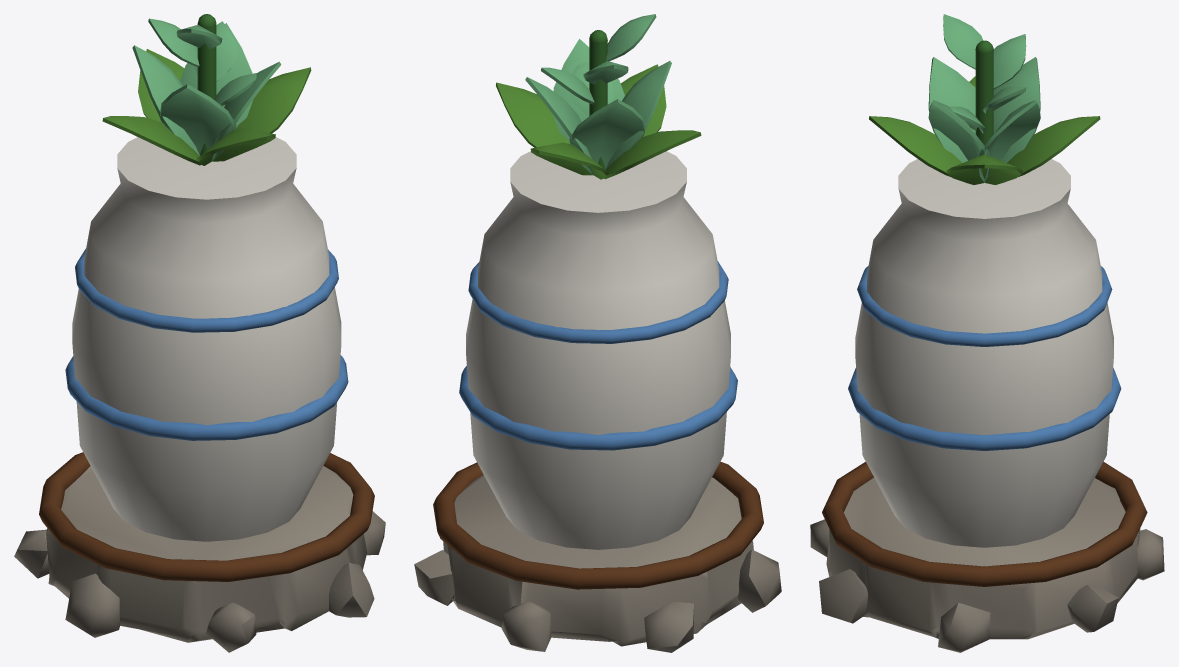
The model's file is d_mint.fbx.
The picture shows the model from 3 angles, left to right: view 1: azimuth 30°, elevation 25°; view 2: azimuth 150°, elevation 25°; view 3: azimuth 270°, elevation 25°; orthographic projection. The views are drawn at different scales.
Parts seen in each view (by area): view 1: d_mint; view 2: d_mint; view 3: d_mint.
Part boxes in pixels (x1=…): d_mint: x1=14, y1=14, x2=385, y2=652; d_mint: x1=414, y1=14, x2=781, y2=652; d_mint: x1=810, y1=14, x2=1164, y2=652.
Size of the model in its own units: 1.97 by 3.4 by 1.94.
